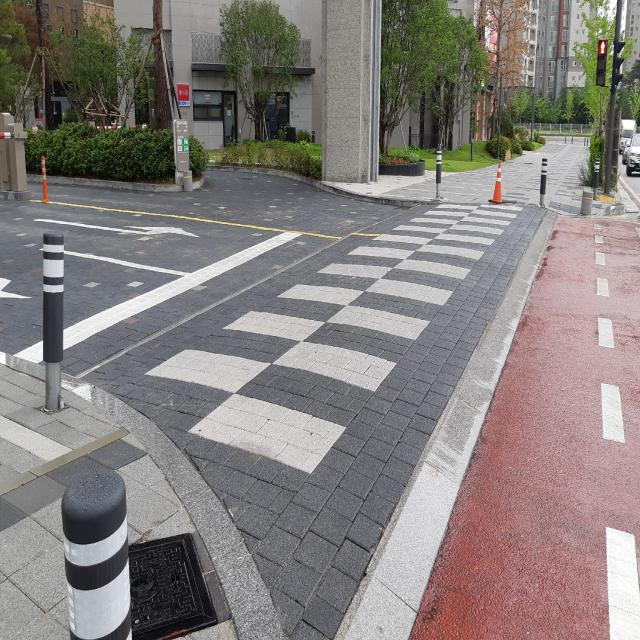빨간불: (598, 40, 606, 84)
횡단보도: (140, 194, 527, 481)
